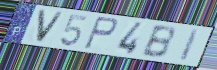4: (114, 21, 142, 56)
5: (58, 13, 90, 48)
B: (139, 25, 176, 60)
I: (177, 29, 202, 64)
P: (81, 15, 119, 52)
V: (34, 8, 66, 45)
